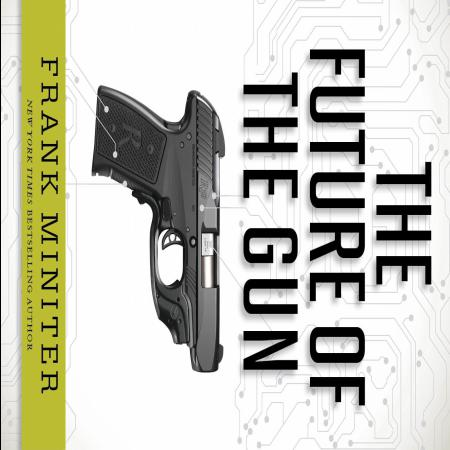Pistol: (89, 74, 225, 376)
